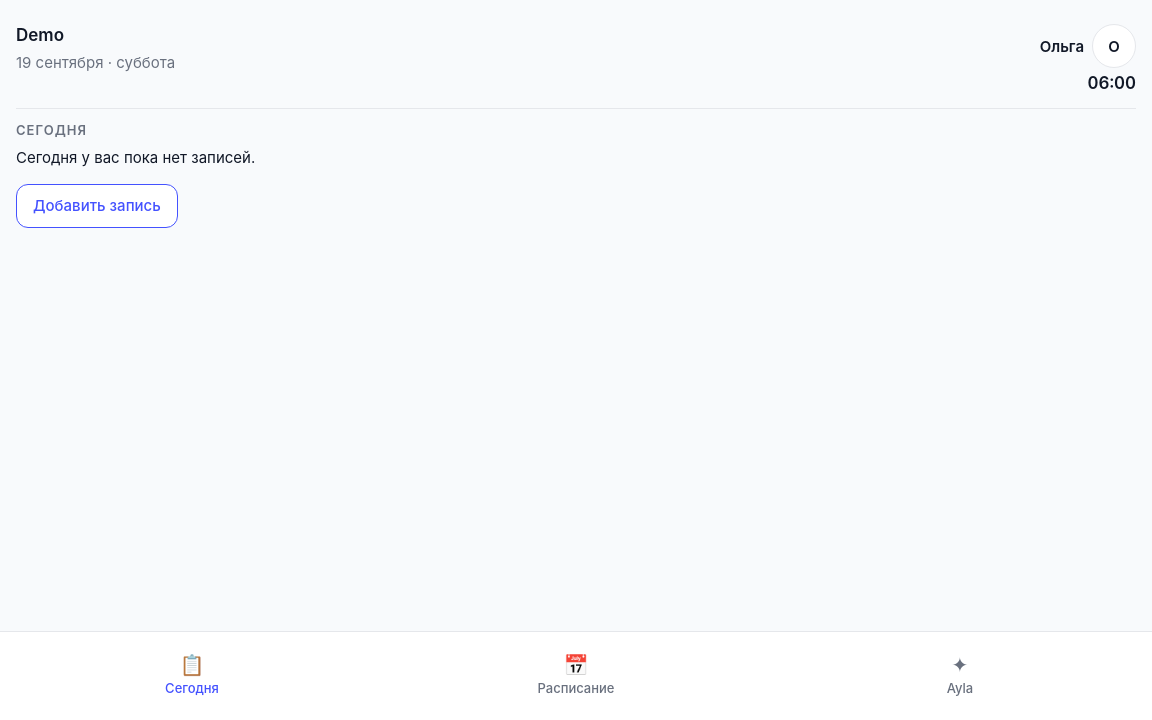
Test: solo surface — admin escape hatch (DRF-1149 → лист аватара, DRF-2127) › shows «Управление салоном» in the avatar sheet for an owner
Click the button named "Меню профиля" at (1114, 46), box x1=1092 y1=24 x2=1136 y2=68
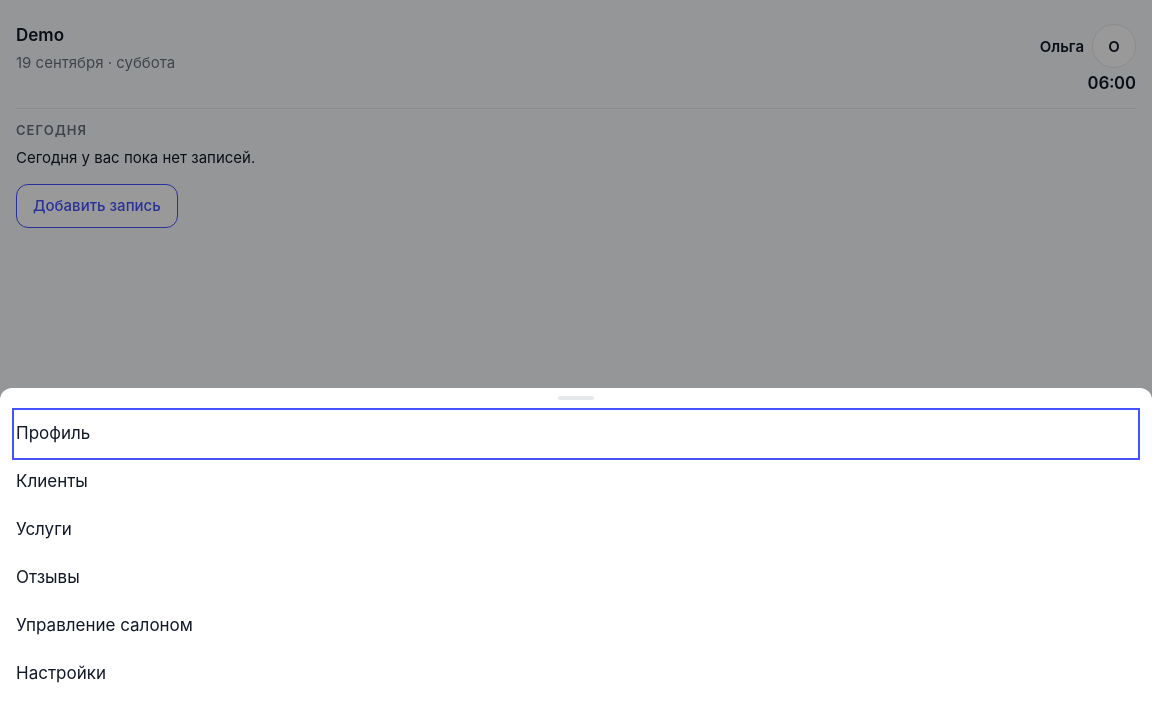
Now the button "Управление салоном" is shown, box x1=16 y1=604 x2=1136 y2=648
